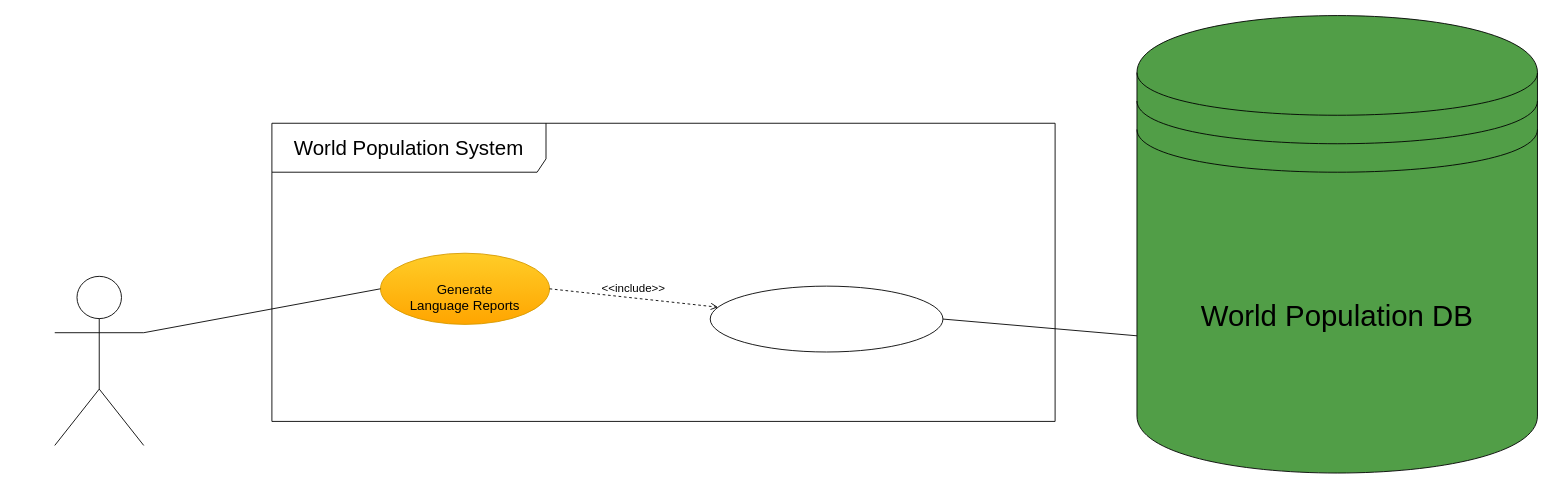
Some shapes in this 1553 by 498 pixel diagram are drawn without their labels. The shapes that lost their labels are listed below. From the top down, each one's centre as x and y in pixels, then its label:
point 826,318: Display most spoken language by Population
point 99,360: Report Analyst
